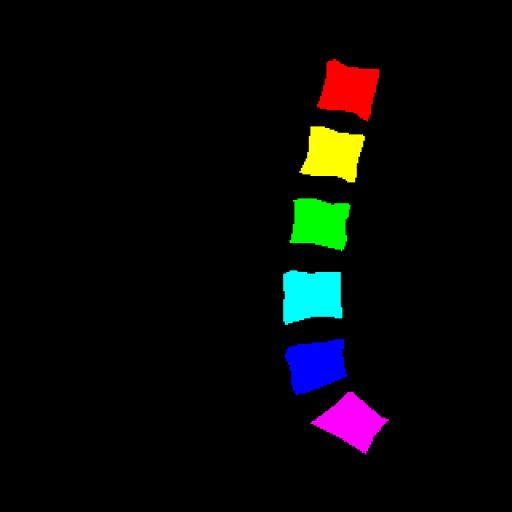L1: (317, 61, 379, 120)
L2: (300, 126, 365, 182)
L3: (290, 198, 350, 250)
L4: (283, 272, 342, 324)
L5: (285, 339, 347, 395)
S1: (311, 392, 388, 454)
